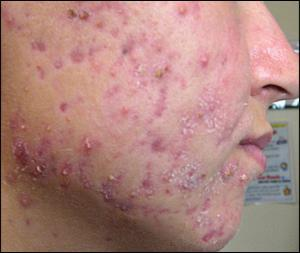fore: (81, 134, 106, 158), (54, 94, 79, 117), (95, 185, 118, 209), (203, 227, 229, 248), (55, 2, 76, 26), (105, 1, 133, 18), (37, 140, 60, 158), (109, 200, 131, 217), (113, 40, 137, 55), (151, 98, 166, 121), (86, 42, 104, 61), (145, 135, 162, 155), (101, 168, 118, 188), (194, 194, 210, 215), (127, 79, 148, 95), (161, 177, 179, 194), (122, 99, 138, 118), (12, 120, 32, 135), (187, 166, 207, 181), (138, 183, 155, 200), (155, 63, 169, 83), (26, 159, 40, 179), (53, 168, 68, 186), (109, 23, 127, 38), (195, 49, 209, 68), (146, 40, 165, 54), (207, 122, 223, 138), (131, 136, 146, 153), (211, 50, 228, 65), (221, 156, 235, 174), (132, 31, 150, 45), (172, 0, 191, 13), (167, 154, 180, 173), (67, 48, 80, 66), (3, 10, 17, 26), (125, 188, 141, 202), (102, 83, 115, 100), (26, 39, 41, 53), (150, 83, 164, 98), (93, 15, 106, 31), (182, 199, 194, 216), (79, 6, 89, 26), (187, 107, 201, 121), (50, 56, 63, 71), (80, 178, 93, 193), (19, 195, 32, 210), (104, 67, 118, 80), (131, 61, 143, 76), (11, 140, 23, 154), (179, 125, 193, 137), (237, 169, 248, 184), (76, 166, 89, 178), (6, 169, 17, 183), (174, 71, 182, 89), (45, 120, 56, 133), (38, 62, 46, 78), (182, 183, 191, 193), (206, 107, 216, 116)
